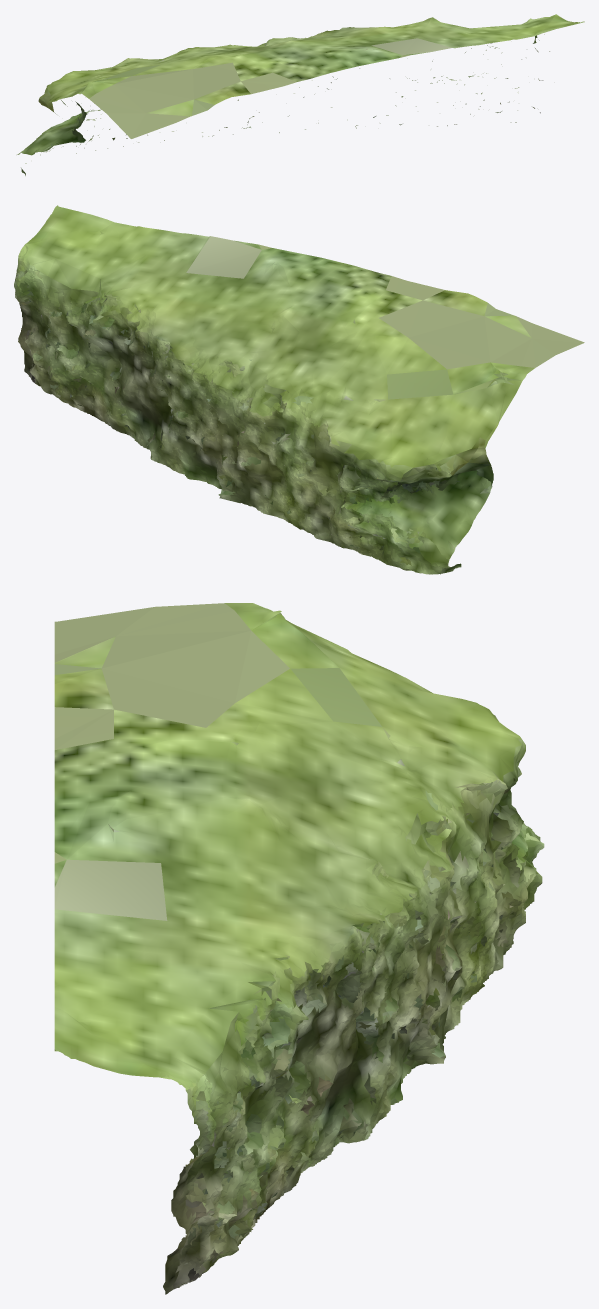
3 renders of one model, top to bottom at view 1: azimuth 30°, elevation 25°; view 2: azimuth 150°, elevation 25°; view 3: azimuth 270°, elevation 25°, orthographic. The views are drawn at different scales.
Bounding box in the file's own units: 0.983 × 0.2789 × 0.4597.
Materials: 1 (1 with a texture image).
